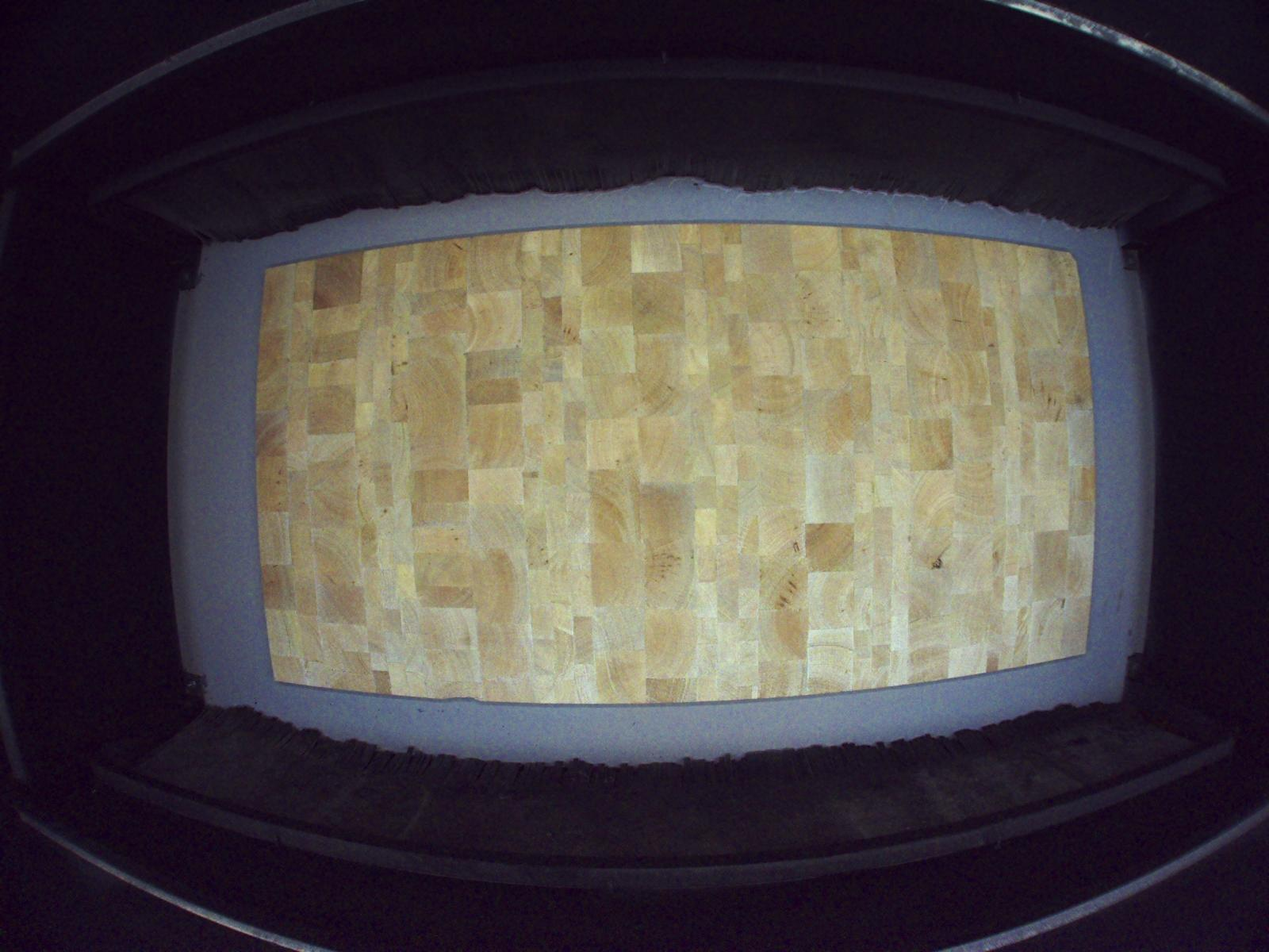sheck_ecuatoriano: (929, 545, 951, 570)
